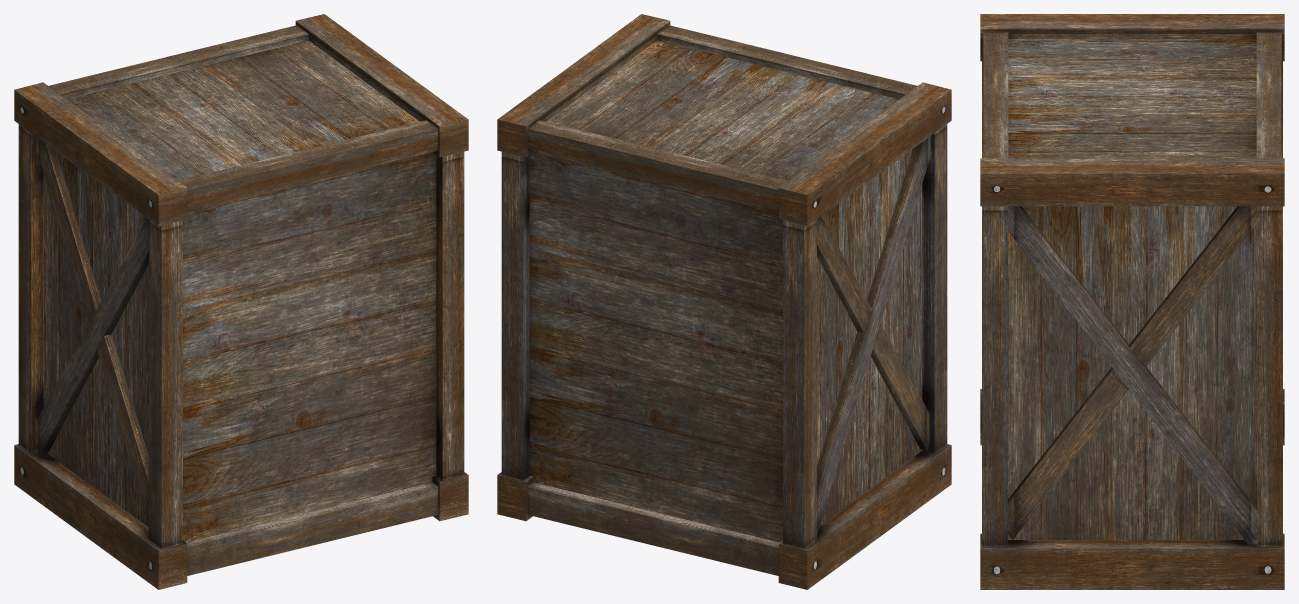
The picture shows the model from 3 angles, left to right: view 1: azimuth 30°, elevation 25°; view 2: azimuth 150°, elevation 25°; view 3: azimuth 270°, elevation 25°; orthographic projection. The views are drawn at different scales.
Parts seen in each view (by area): view 1: Crate 3; view 2: Crate 3; view 3: Crate 3.
Part boxes in pixels (bbox=[...]): Crate 3: bbox=[14, 14, 468, 589]; Crate 3: bbox=[497, 14, 951, 589]; Crate 3: bbox=[980, 14, 1284, 589].
Size of the model in its own units: 1008 by 1226 by 811.
Materials: 1 (1 with a texture image).
